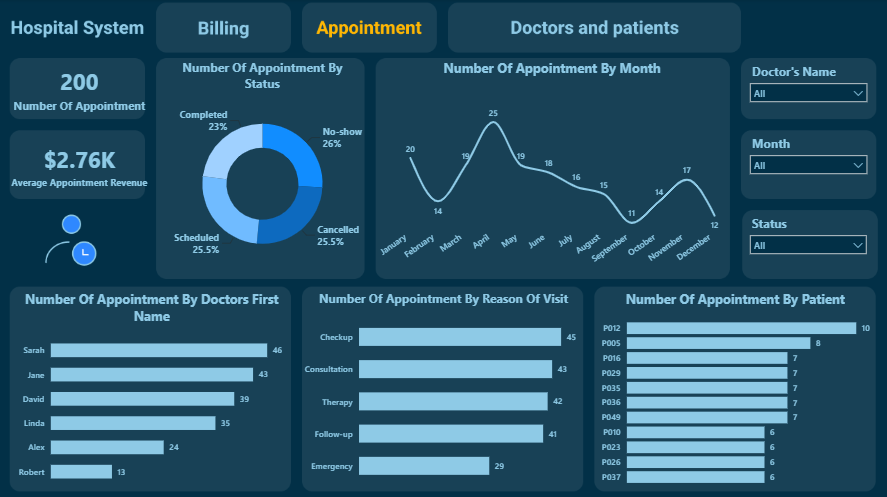

The dashboard page shown, as its layout file describes it:
{"tool":"powerbi","page":{"name":"Appointments","canvas":[1280,720],"ordinal":2},"visuals":[{"type":"lineChart","title":"Number Of Appointment By Month","fields":{"Y":["Dax.Number of appointment"],"Category":["DimDate.Month"]},"box":[541.7,86.7,510,313.3],"z":0},{"type":"clusteredBarChart","title":"Number Of Appointment By Doctors First Name","fields":{"Y":["Dax.Number of appointment"],"Category":["Dim Doctors.first_name"]},"box":[21.7,418.3,396.7,291.7],"z":1000},{"type":"card","fields":{"Values":["Dax.Number of appointment"]},"box":[11.4,87.1,208.6,82.9],"z":2000},{"type":"card","fields":{"Values":["Dax.Average Revenue per Appointment"]},"box":[11.4,190,208.6,100],"z":3000},{"type":"donutChart","title":"Number Of Appointment By Status","fields":{"Category":["Fact Appointment.status"],"Y":["Dax.Number of appointment"]},"box":[231.7,86.7,295,313.3],"z":4000},{"type":"clusteredBarChart","title":"Number Of Appointment By Patient","fields":{"Category":["Fact Appointment.patient_id"],"Y":["Dax.Number of appointment"]},"box":[861.7,418.3,398.3,291.7],"z":5000},{"type":"clusteredBarChart","title":"Number Of Appointment By Reason Of Visit","fields":{"Category":["Fact Appointment.reason_for_visit"],"Y":["Dax.Number of appointment"]},"box":[433.3,418.3,413.3,291.7],"z":6000},{"type":"slicer","fields":{"Values":["Dim Doctors.first_name"]},"box":[1071,87,189,90],"z":7000},{"type":"slicer","fields":{"Values":["DimDate.Month"]},"box":[1071,190,189,100],"z":8000},{"type":"slicer","fields":{"Values":["Fact Appointment.status"]},"box":[1071.7,305,188.3,95],"z":9000},{"type":"actionButton","box":[227.3,7.3,192.7,69.1],"z":10000},{"type":"actionButton","box":[647.3,7.3,423.6,69.1],"z":11000}]}

Visuals, with their boxes in screenshot pixels (x1, y1, x2, y2), scaled from the page's 1280x720 canvas onto the 887x497 screenshot:
"Number Of Appointment By Month" lineChart: [x1=375, y1=60, x2=729, y2=276]
"Number Of Appointment By Doctors First Name" clusteredBarChart: [x1=15, y1=289, x2=290, y2=490]
card - Dax.Number of appointment: [x1=8, y1=60, x2=152, y2=117]
card - Dax.Average Revenue per Appointment: [x1=8, y1=131, x2=152, y2=200]
"Number Of Appointment By Status" donutChart: [x1=161, y1=60, x2=365, y2=276]
"Number Of Appointment By Patient" clusteredBarChart: [x1=597, y1=289, x2=873, y2=490]
"Number Of Appointment By Reason Of Visit" clusteredBarChart: [x1=300, y1=289, x2=587, y2=490]
slicer - Dim Doctors.first_name: [x1=742, y1=60, x2=873, y2=122]
slicer - DimDate.Month: [x1=742, y1=131, x2=873, y2=200]
slicer - Fact Appointment.status: [x1=743, y1=211, x2=873, y2=276]
actionButton: [x1=158, y1=5, x2=291, y2=53]
actionButton: [x1=449, y1=5, x2=742, y2=53]
